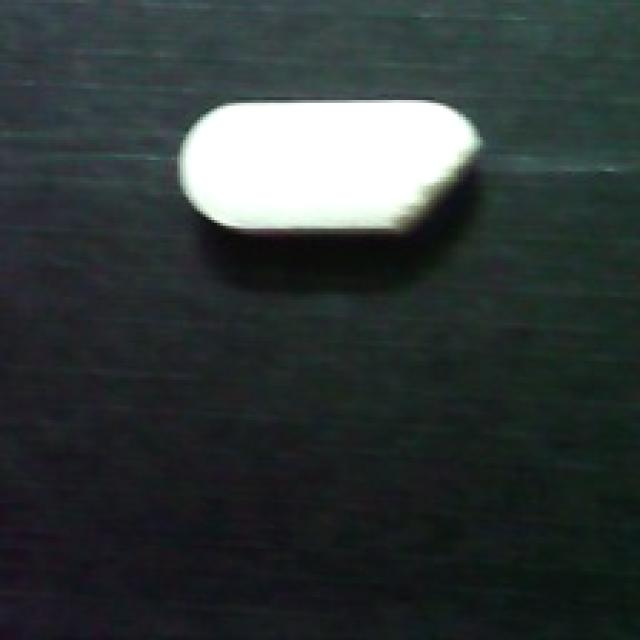defected: (171, 89, 506, 243)
